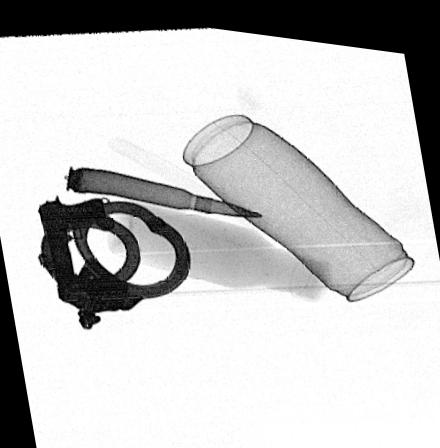Bullet: (61, 160, 264, 208)
Gun: (37, 194, 108, 283)
HandCuffs: (36, 195, 191, 326)
